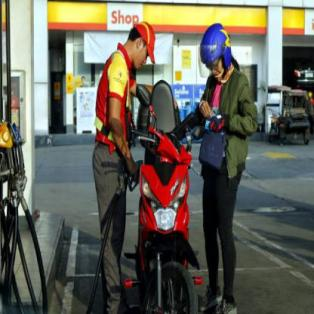Motocicleta: (129, 94, 205, 314)
